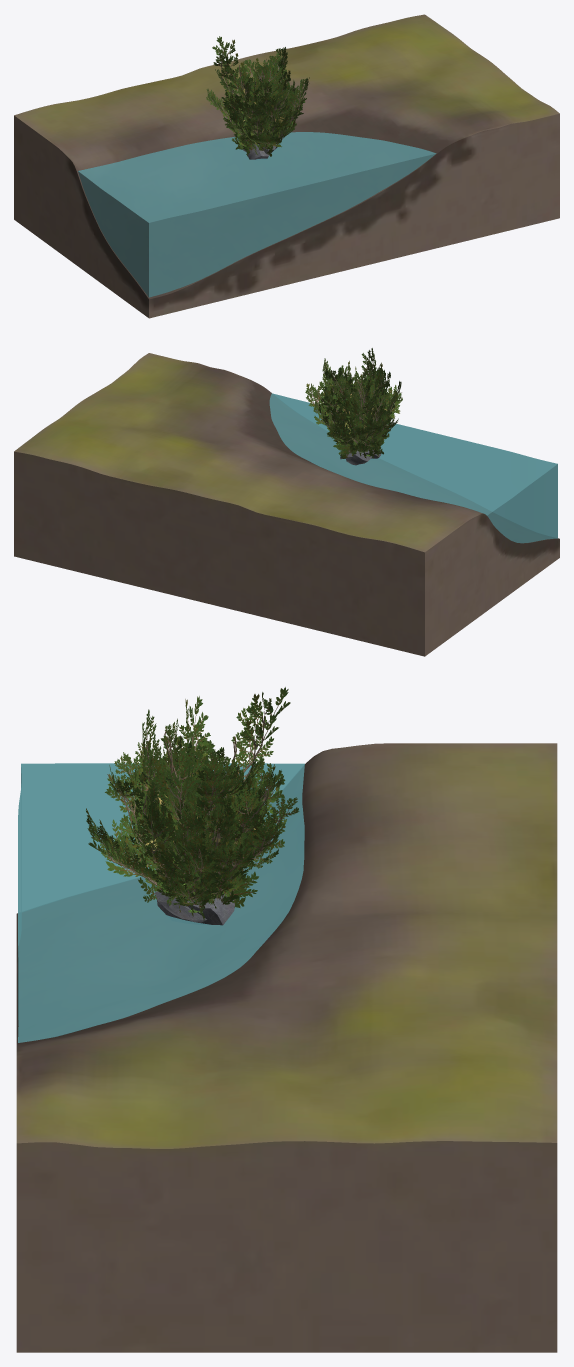
File: pond.glb
The picture shows the model from 3 angles, top to bottom: view 1: azimuth 30°, elevation 25°; view 2: azimuth 150°, elevation 25°; view 3: azimuth 270°, elevation 25°; orthographic projection. The views are drawn at different scales.
Size of the model in its own units: 7.97 by 3.71 by 4.54.
Materials: 11 (10 with a texture image).
